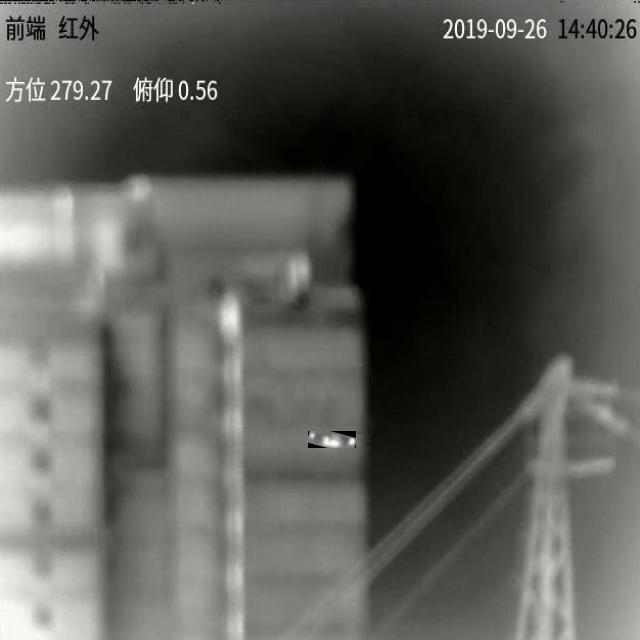drone: (309, 432, 356, 448)
